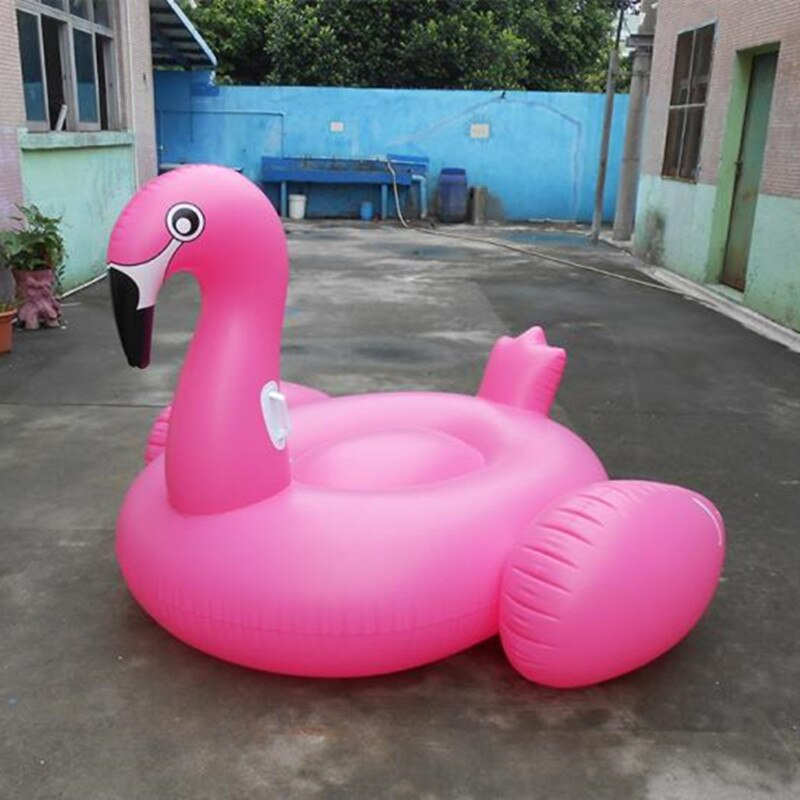Flamingo: (99, 160, 729, 700)
